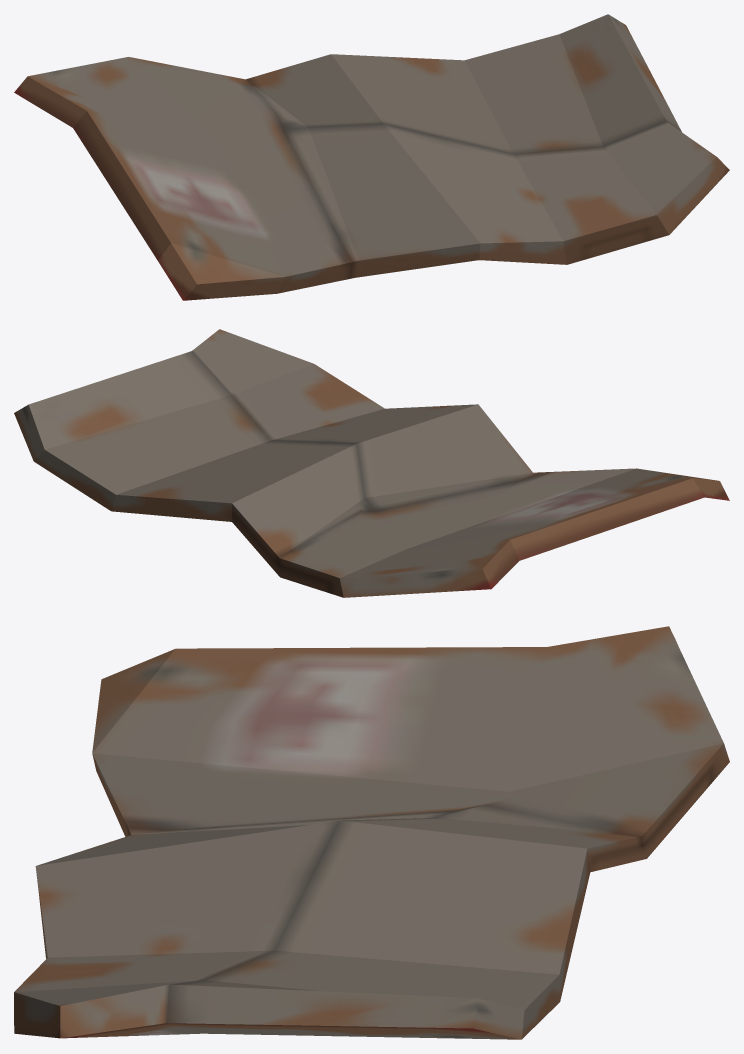
The model's file is SM_Env_Scrap_10.obj.
The picture shows the model from 3 angles, top to bottom: view 1: azimuth 30°, elevation 25°; view 2: azimuth 150°, elevation 25°; view 3: azimuth 270°, elevation 25°; orthographic projection. The views are drawn at different scales.
Parts seen in each view (by area): view 1: SM_Env_Scrap_10_0; view 2: SM_Env_Scrap_10_0; view 3: SM_Env_Scrap_10_0.
Part boxes in pixels (left/top/right/bottom): SM_Env_Scrap_10_0: left=14, top=14, right=729, bottom=300; SM_Env_Scrap_10_0: left=14, top=329, right=729, bottom=597; SM_Env_Scrap_10_0: left=14, top=626, right=729, bottom=1039.
Size of the model in its own units: 2.16 by 0.3827 by 1.66.
Materials: 1 (1 with a texture image).
